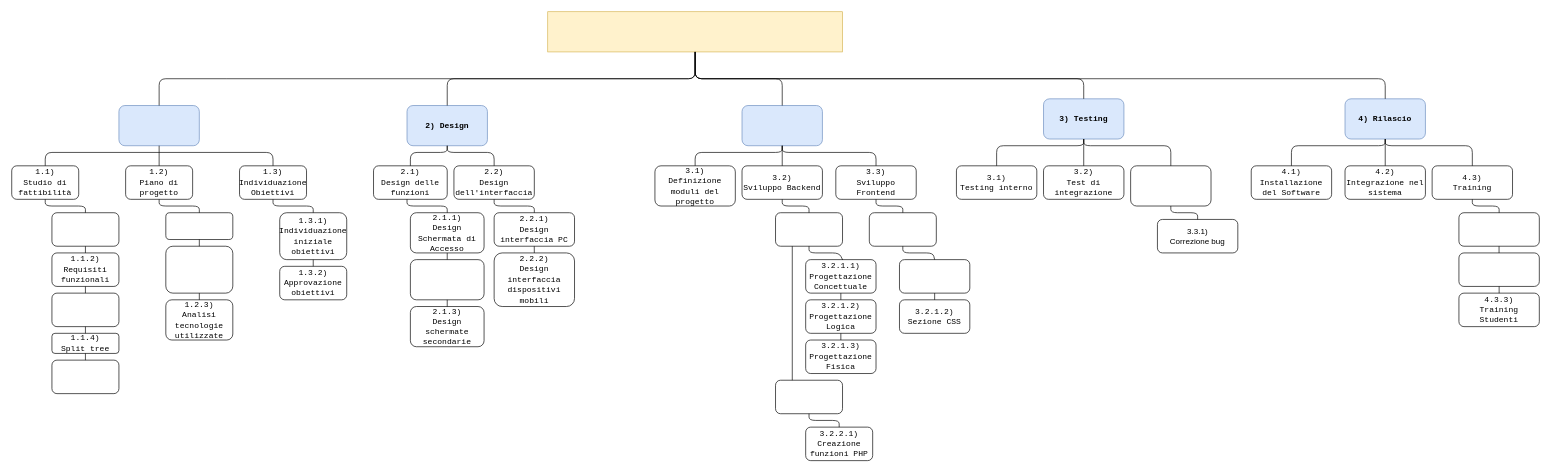
Some shapes in this 1551 by 472 pixel diagram are drawn without their labels. Here are the shapes that lost their labels. From the top down, the centre of each, then its label:
At point 695,31: "Gestionale Laboratorio Chimica ITIS E. Fermi".
At point 158,125: "1) Analisi del progetto".
At point 781,125: "3) Ricerca e Sviluppo".
At point 1170,185: "3.3) Analisi risultati dei test".
At point 85,229: "1.1.1) Analisi dei requisiti".
At point 199,226: "1.2.1) WBS".
At point 809,229: "3.2.1) Progettazione DataBase".
At point 902,229: "3.2.1) Creazione pagine".
At point 1498,229: "4.3.1) Training Insegnanti".
At point 199,269: "1.2.2) Pianificazione Temporale (Gantt)".
At point 447,279: "2.1.2) Design Schermata principale".
At point 934,276: "3.2.1.1) Sezione HTML".
At point 1498,269: "4.3.2) Training Assistenti".
At point 85,309: "1.1.3) Requisiti non funzionali".
At point 85,376: "1.1.5) Analisi attività".
At point 809,397: "3.2.2) Creazione pagine PHP".
